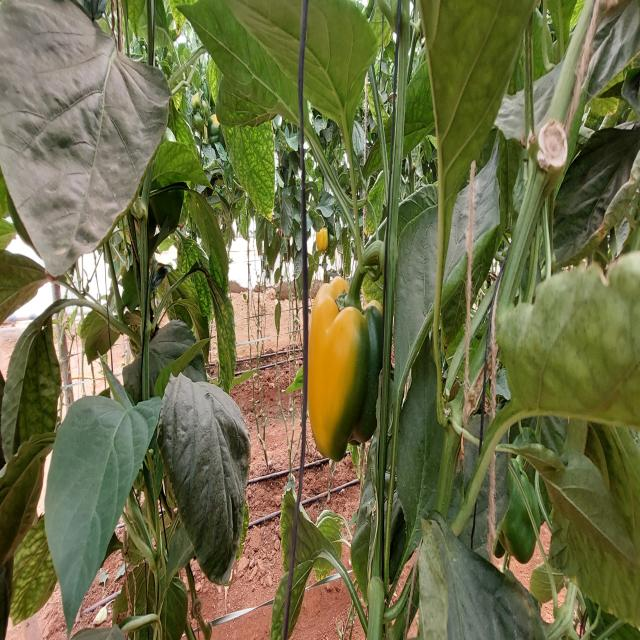Yellow-Ready-to-Harvest: (304, 272, 356, 468)
